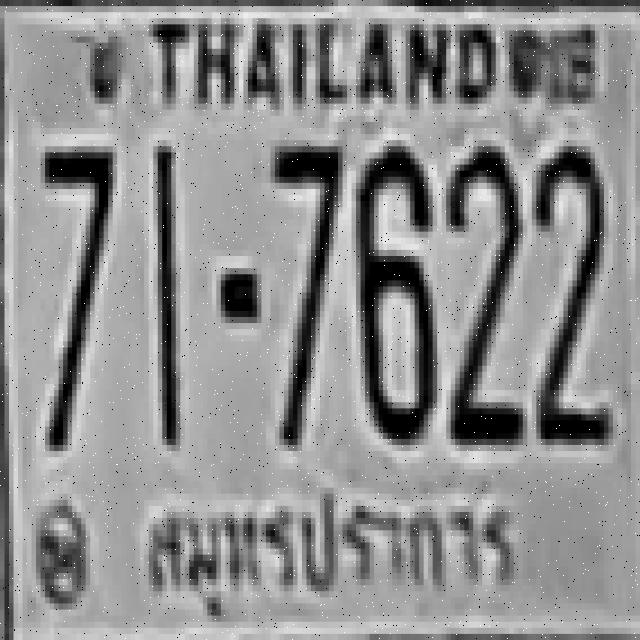2: (444, 140, 530, 452), (534, 140, 618, 454)
6: (353, 144, 434, 442)
7: (40, 143, 116, 457), (270, 140, 344, 446)
SamutPrakan: (137, 492, 530, 622)
